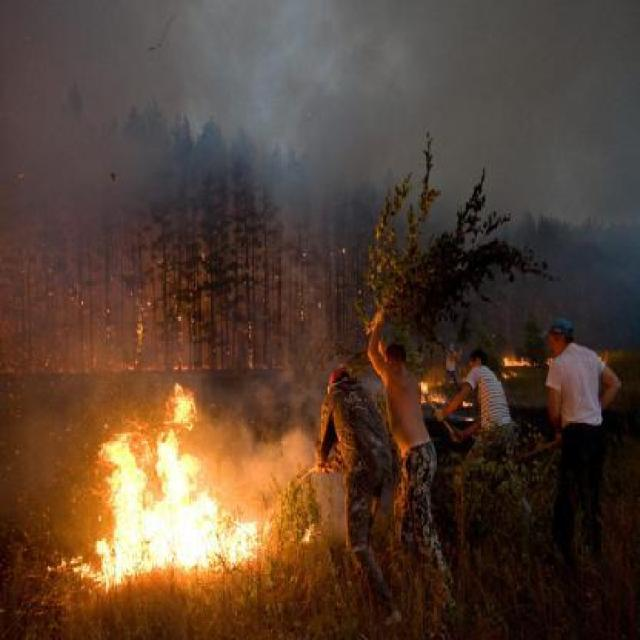Fire: (89, 378, 309, 594)
